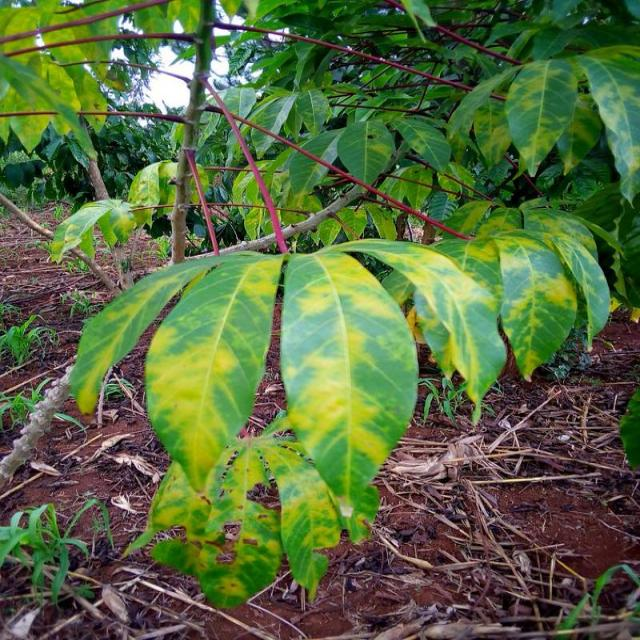cassava leaf: (280, 247, 421, 543), (144, 249, 286, 494), (505, 57, 579, 178)
